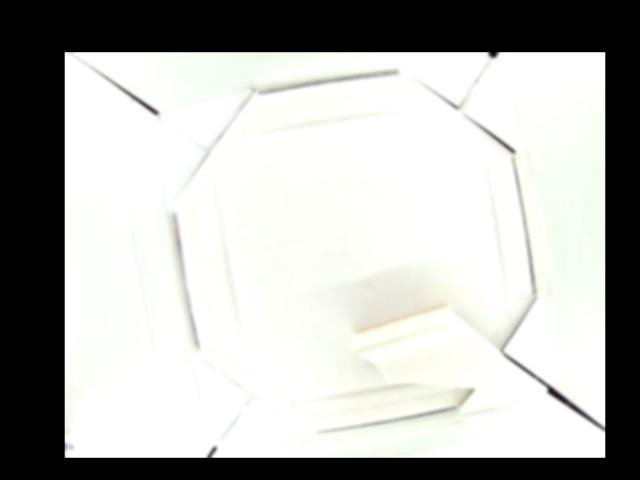China: (353, 303, 547, 393)
